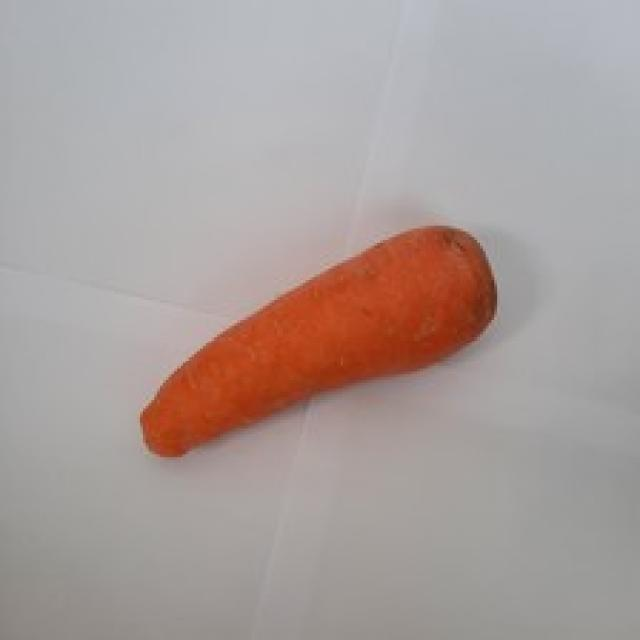carrot: (141, 218, 492, 463)
